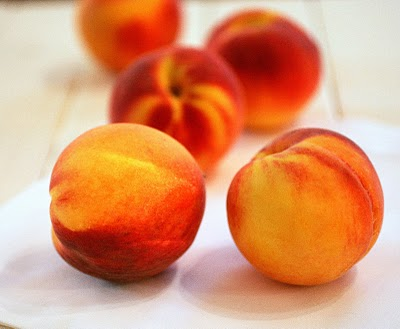peach: (50, 127, 199, 272), (228, 131, 373, 278), (206, 9, 306, 129), (110, 49, 229, 146), (66, 2, 172, 59)
